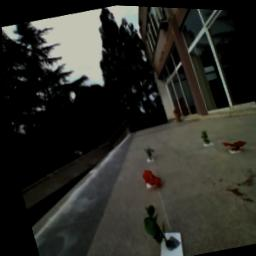herb: (137, 201, 167, 245), (198, 126, 211, 145), (142, 145, 155, 160)
wild: (139, 166, 162, 190), (220, 134, 246, 154)
